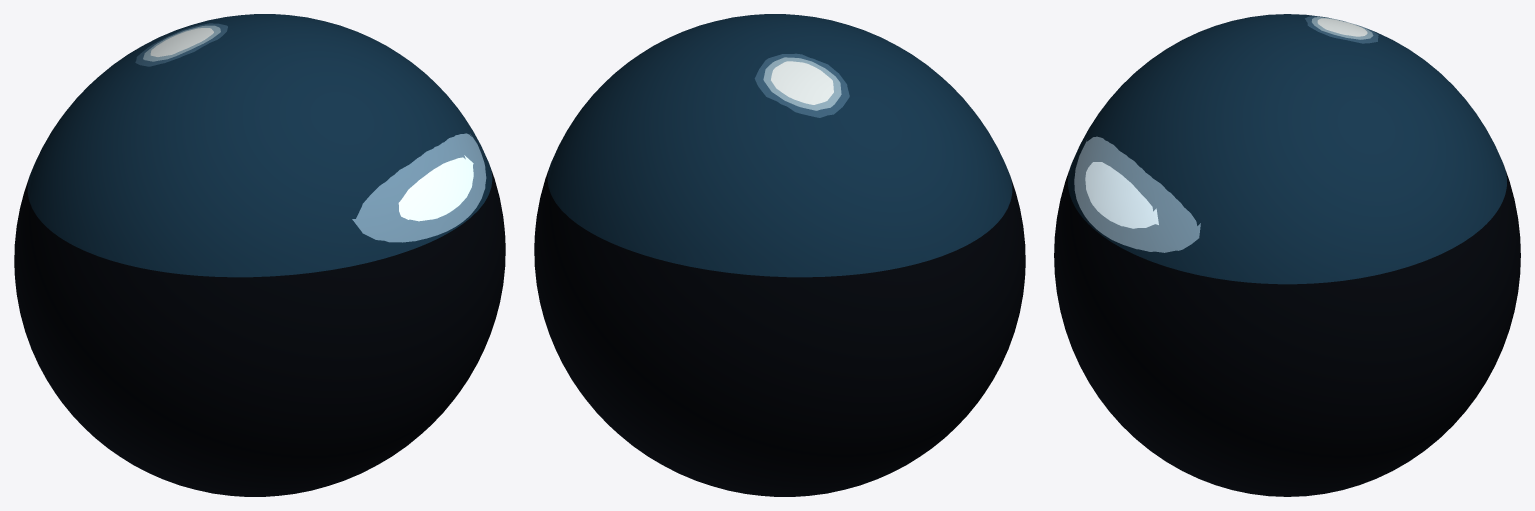
Rendered from ball_dark.glb.
3 views of the same model, side by side, from view 1: azimuth 30°, elevation 25°; view 2: azimuth 150°, elevation 25°; view 3: azimuth 270°, elevation 25° (orthographic).
Parts seen in each view (by area): view 1: ball_dark; view 2: ball_dark; view 3: ball_dark.
Part boxes in pixels (x1,y1,x2,y2): ball_dark: (14,14,505,496); ball_dark: (534,14,1025,496); ball_dark: (1054,14,1520,496).
Bounding box in the file's own units: 18 × 17.5 × 17.
